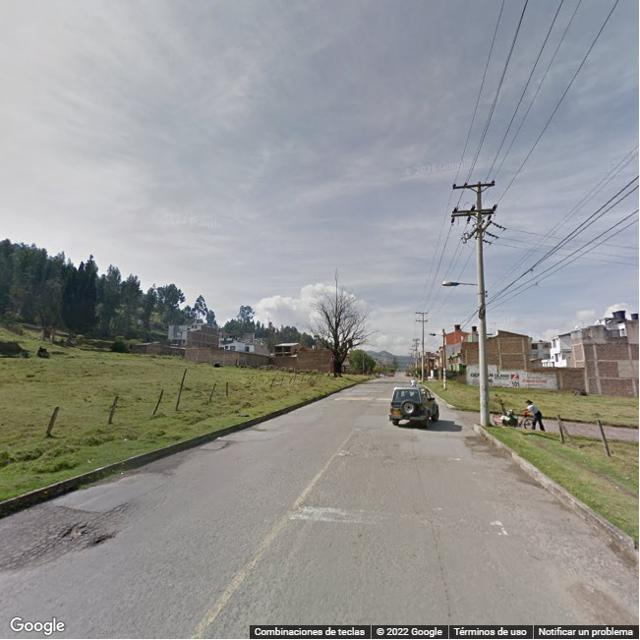D00: (425, 514, 455, 617)
D20: (5, 498, 130, 571)
